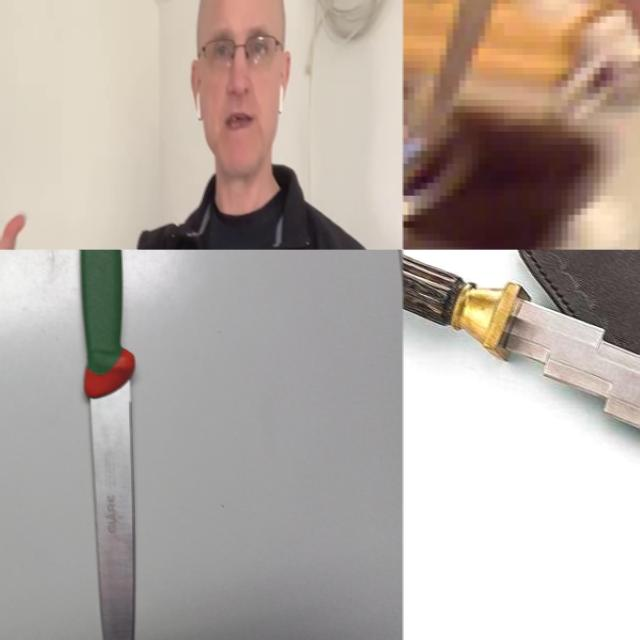Knife: (403, 254, 640, 431), (81, 249, 135, 640)
Knife_Handle: (427, 0, 619, 121)
